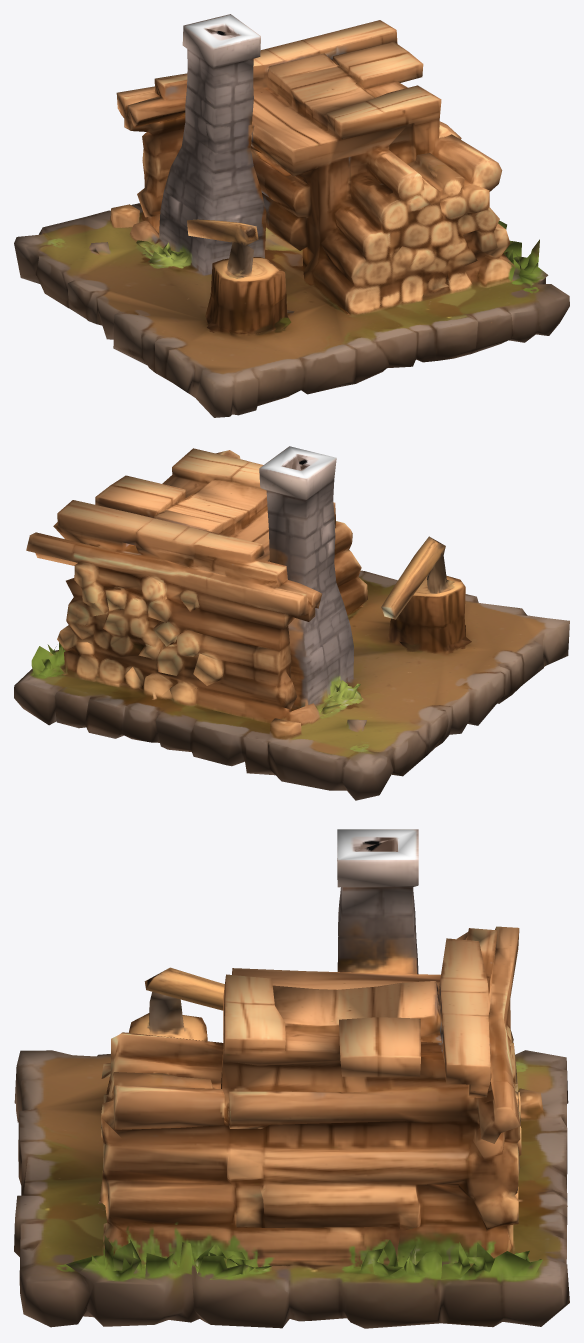
File: lumber_camp.glb
3 renders of one model, top to bottom at view 1: azimuth 30°, elevation 25°; view 2: azimuth 150°, elevation 25°; view 3: azimuth 270°, elevation 25°, orthographic. The views are drawn at different scales.
Parts seen in each view (by area): view 1: geometry_0.001; view 2: geometry_0.001; view 3: geometry_0.001.
Boxes of the visible parts, x1,y1,x2,y2 form: geometry_0.001: (14,14,569,417); geometry_0.001: (14,446,569,800); geometry_0.001: (14,829,569,1328).
Bounding box in the file's own units: 1.96 × 1.31 × 1.93.
Materials: 1 (1 with a texture image).
